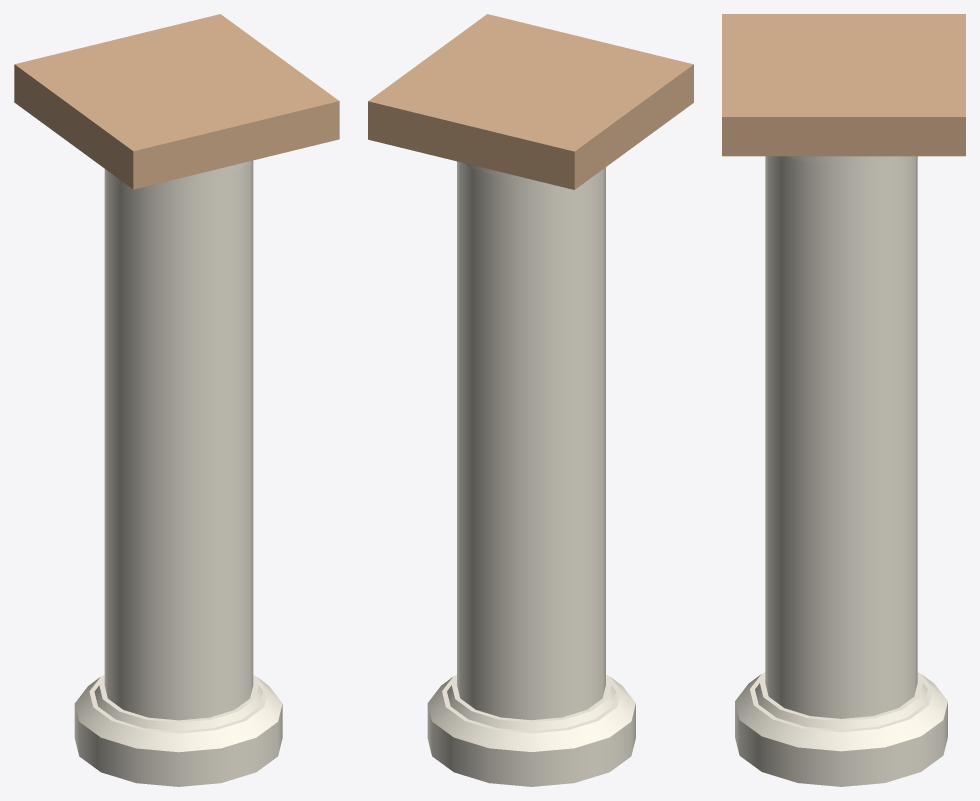
Rendered from colon.fbx.
3 views of the same model, side by side, from view 1: azimuth 30°, elevation 25°; view 2: azimuth 150°, elevation 25°; view 3: azimuth 270°, elevation 25° (orthographic). The views are drawn at different scales.
Parts seen in each view (by area): view 1: polySurface470; view 2: polySurface470; view 3: polySurface470.
Part boxes in pixels (bbox=[...]): polySurface470: bbox=[14, 14, 339, 786]; polySurface470: bbox=[368, 14, 693, 786]; polySurface470: bbox=[722, 14, 965, 786].
Bounding box in the file's own units: 0.2378 × 0.7272 × 0.2378.
